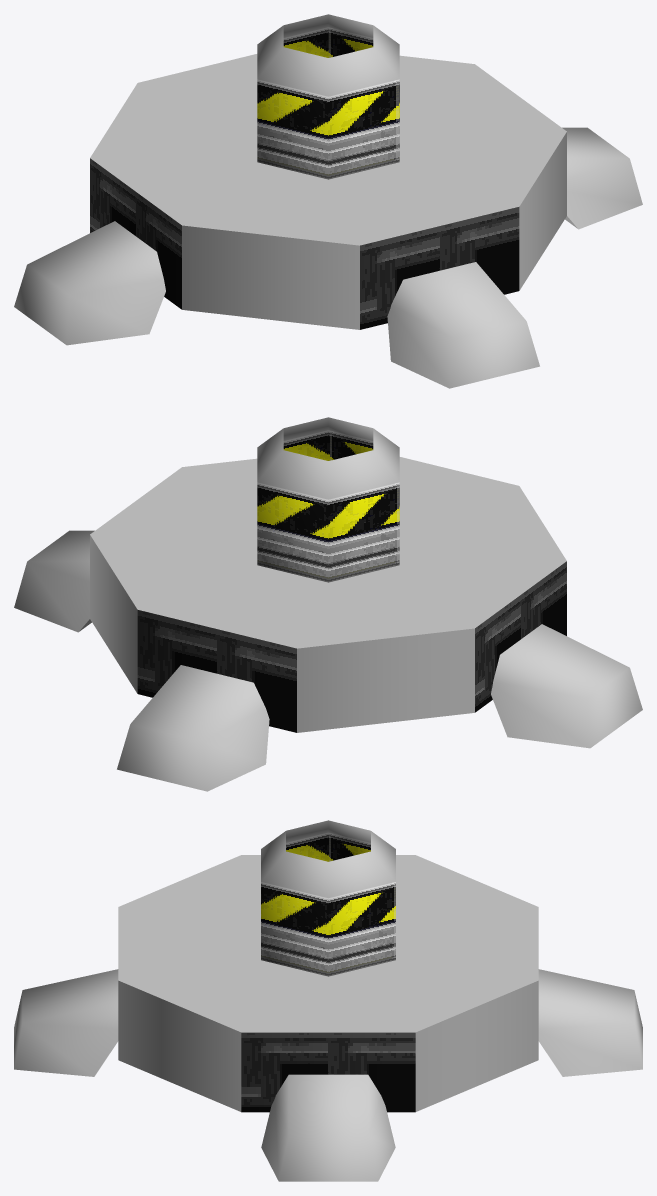
The model's file is CapsuleBroke.obj.
3 views of the same model, one above another, from view 1: azimuth 30°, elevation 25°; view 2: azimuth 150°, elevation 25°; view 3: azimuth 270°, elevation 25° (orthographic). The views are drawn at different scales.
Size of the model in its own units: 46.3 by 16.86 by 46.3.
